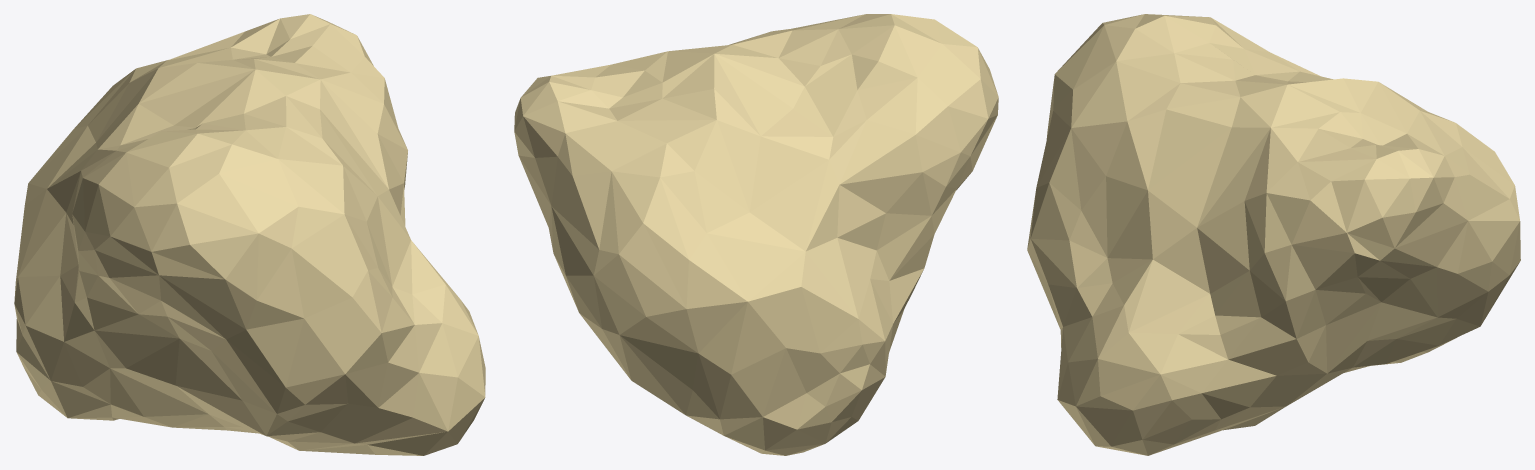
Rendered from Asteroid (44).fbx.
3 views of the same model, side by side, from view 1: azimuth 30°, elevation 25°; view 2: azimuth 150°, elevation 25°; view 3: azimuth 270°, elevation 25° (orthographic). The views are drawn at different scales.
Parts seen in each view (by area): view 1: Asteroid101; view 2: Asteroid101; view 3: Asteroid101.
Part boxes in pixels (left/top/right/bottom): Asteroid101: left=14, top=14, right=485, bottom=455; Asteroid101: left=514, top=14, right=998, bottom=455; Asteroid101: left=1027, top=14, right=1520, bottom=455.
Size of the model in its own units: 190 by 176 by 227.
